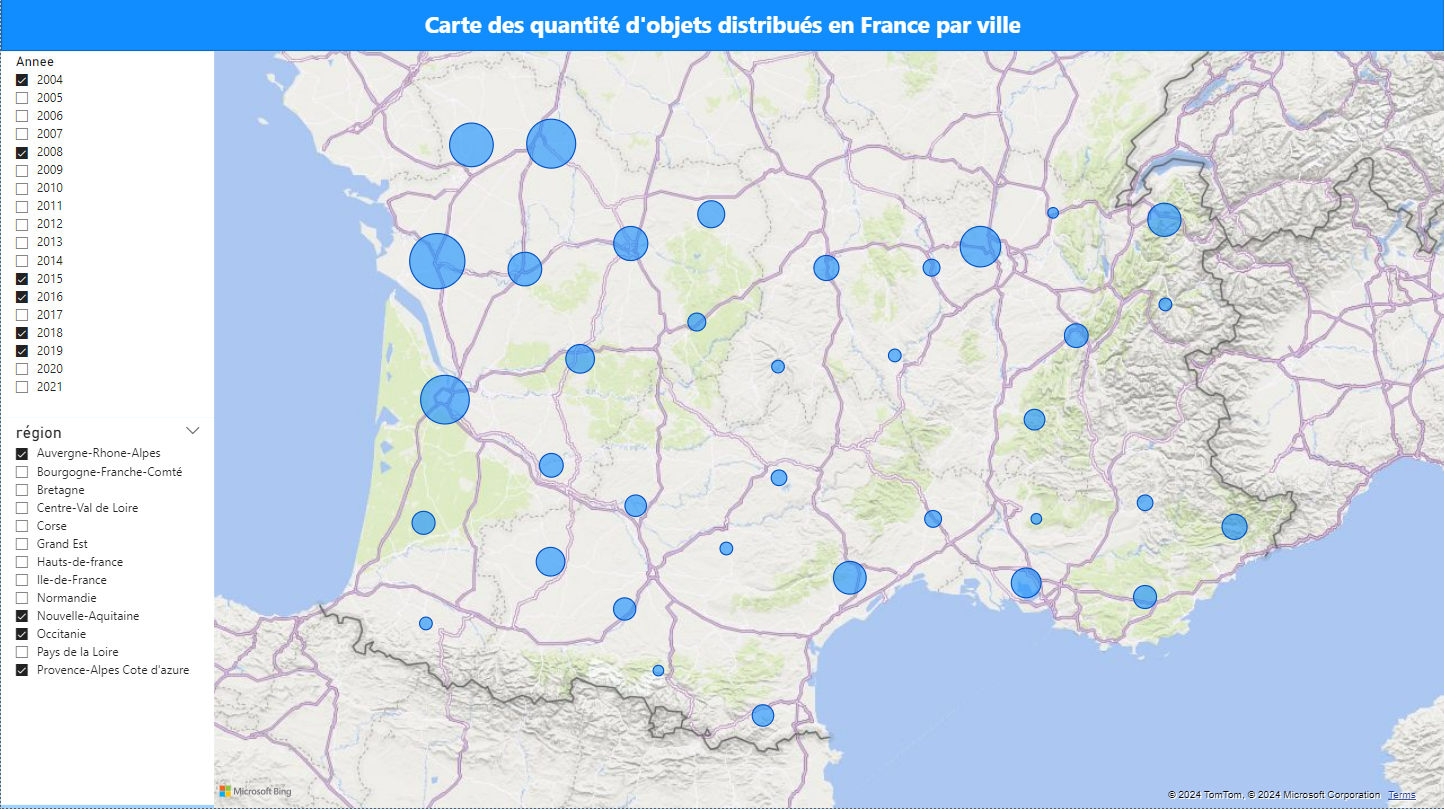

Layout of this report page (visuals, bound fields, positions):
{"tool":"powerbi","page":{"name":"Carte ","canvas":[1280,720],"ordinal":2},"visuals":[{"type":"map","fields":{"Category":["dataw_fro03.Pays","dataw_fro03.depcli"],"Size":["Sum(dataw_fro03.qte)"]},"box":[189.3,48.8,1090.7,671.4],"z":0},{"type":"slicer","fields":{"Values":["Datum.Annee"]},"box":[0.1,45.7,188.9,328.4],"z":1000},{"type":"slicer","fields":{"Values":["dataw_fro03.Régions"]},"box":[0.1,374,188.9,342.9],"z":2000},{"type":"shape","box":[0,0,1280,48.8],"z":6000}]}

Visuals, with their boxes in screenshot pixels (x1, y1, x2, y2), scaled from the page's 1280x720 canvas onto the 1444x809 screenshot:
map - dataw_fro03.Pays x dataw_fro03.depcli: [214, 55, 1443, 808]
slicer - Datum.Annee: [0, 51, 213, 420]
slicer - dataw_fro03.Régions: [0, 420, 213, 806]
shape: [0, 0, 1443, 55]
